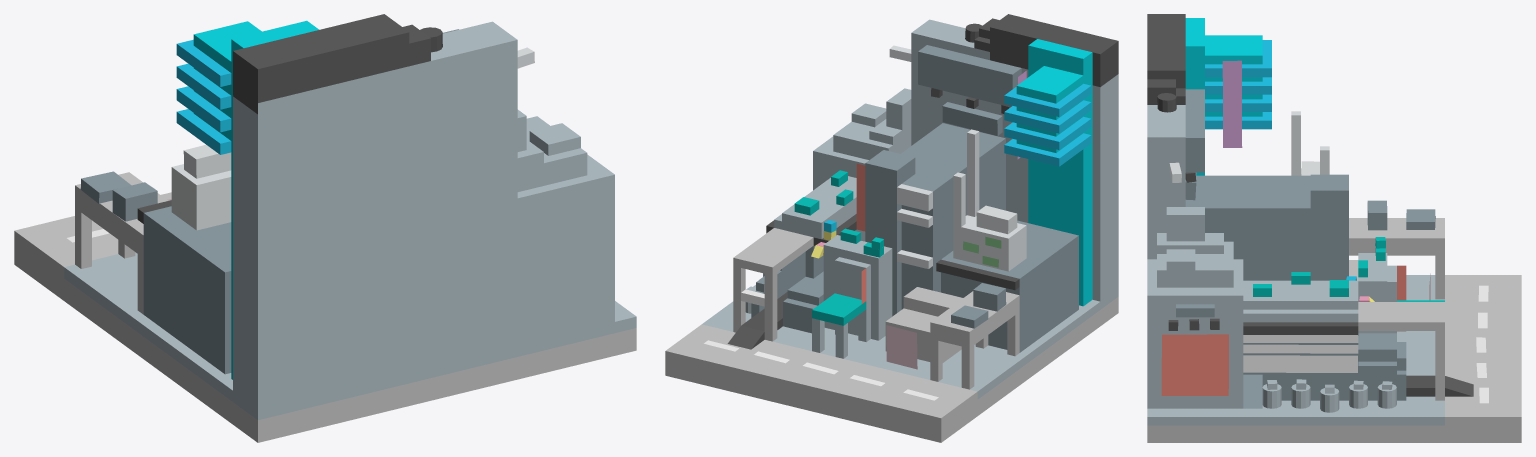
The model's file is city.glb.
3 views of the same model, side by side, from view 1: azimuth 30°, elevation 25°; view 2: azimuth 150°, elevation 25°; view 3: azimuth 270°, elevation 25° (orthographic). The views are drawn at different scales.
Parts seen in each view (by area): view 1: mesh_1723478121, mesh_91761047, mesh_2054149451, mesh_1596701972, mesh_1074040947, mesh_706337434, mesh_1145140002, mesh_751856870, mesh_1679961144, mesh_1881448798, mesh_174276333, mesh_240593227 (+11 smaller); view 2: mesh_751856870, mesh_1723478121, mesh_695476300, mesh_240593227, mesh_1596701972, mesh_1074040947, mesh_95029276, mesh_706337434, mesh_1690054355, mesh_440695655, mesh_2124658310, mesh_2054149451 (+45 smaller); view 3: mesh_695476300, mesh_1074040947, mesh_91761047, mesh_751856870, mesh_2054149451, mesh_95029276, mesh_1723478121, mesh_2130219546, mesh_1690054355, mesh_1881448798, mesh_787046203, mesh_706337434 (+40 smaller).
Boxes of the visible parts, x1,y1,x2,y2 form: mesh_1723478121: [233, 21, 517, 408]; mesh_91761047: [517, 154, 614, 345]; mesh_2054149451: [39, 260, 636, 442]; mesh_1596701972: [143, 206, 231, 374]; mesh_1074040947: [64, 252, 636, 420]; mesh_706337434: [233, 14, 409, 114]; mesh_1145140002: [171, 164, 231, 230]; mesh_751856870: [14, 192, 171, 282]; mesh_1679961144: [517, 116, 587, 191]; mesh_1881448798: [75, 172, 167, 257]; mesh_174276333: [193, 21, 261, 140]; mesh_240593227: [231, 20, 319, 379]; mesh_751856870: [665, 337, 959, 442]; mesh_1723478121: [911, 19, 1118, 301]; mesh_695476300: [901, 123, 1005, 309]; mesh_240593227: [1028, 39, 1092, 306]; mesh_1596701972: [941, 220, 1078, 352]; mesh_1074040947: [702, 285, 1118, 399]; mesh_95029276: [684, 324, 977, 412]; mesh_706337434: [990, 14, 1118, 87]; mesh_1690054355: [865, 150, 915, 316]; mesh_440695655: [918, 45, 1021, 106]; mesh_2124658310: [823, 235, 892, 340]; mesh_2054149451: [959, 297, 1118, 429]; mesh_695476300: [1185, 175, 1310, 280]; mesh_1074040947: [1147, 275, 1444, 425]; mesh_91761047: [1147, 259, 1243, 408]; mesh_751856870: [1483, 275, 1521, 442]; mesh_2054149451: [1147, 425, 1483, 442]; mesh_95029276: [1445, 275, 1483, 425]; mesh_1723478121: [1147, 105, 1185, 259]; mesh_2130219546: [1161, 334, 1228, 395]; mesh_1690054355: [1310, 174, 1348, 280]; mesh_1881448798: [1349, 218, 1444, 255]; mesh_787046203: [1243, 280, 1358, 309]; mesh_706337434: [1147, 14, 1185, 88].
Size of the model in its own units: 35 by 33 by 39.
